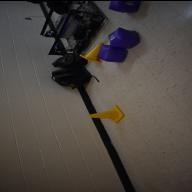cone: (88, 104, 124, 122), (80, 42, 104, 62)
cube: (107, 26, 140, 48), (97, 44, 128, 62), (108, 0, 139, 12)
